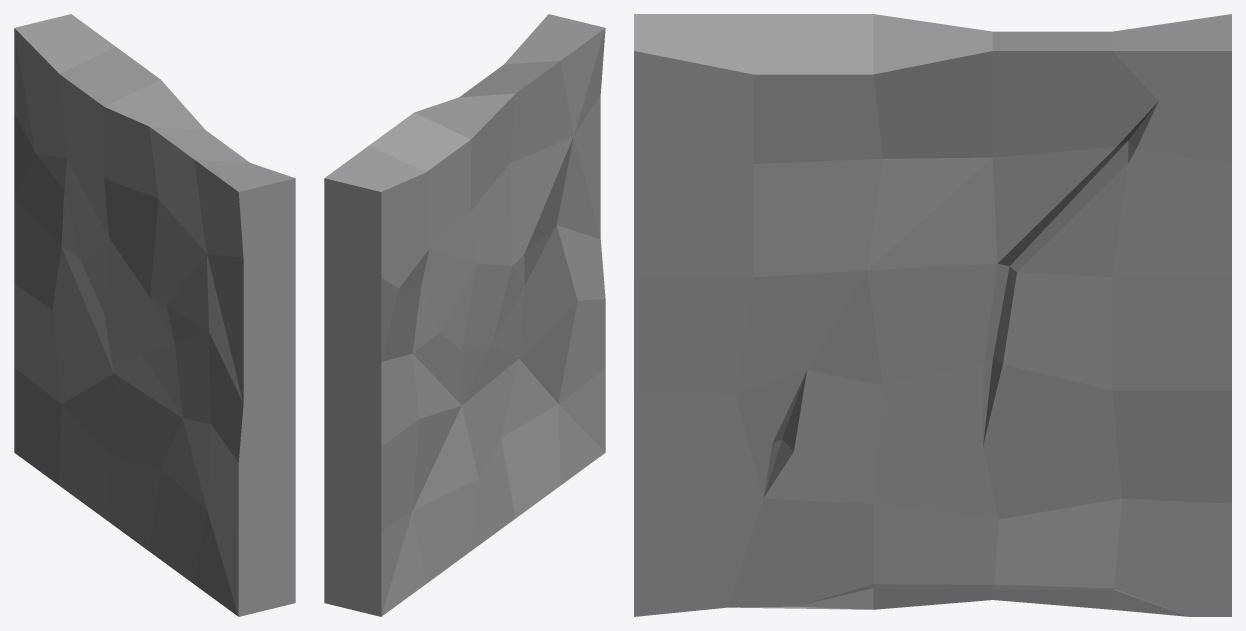
File: Fixed Mesh 17.fbx
3 renders of one model, left to right at view 1: azimuth 30°, elevation 25°; view 2: azimuth 150°, elevation 25°; view 3: azimuth 270°, elevation 25°, orthographic. The views are drawn at different scales.
Parts seen in each view (by area): view 1: Cube.071; view 2: Cube.071; view 3: Cube.071.
Part boxes in pixels (x1,y1,x2,y2): Cube.071: (14,14,295,616); Cube.071: (324,14,605,616); Cube.071: (634,14,1231,616).
Size of the model in its own units: 60 by 428 by 410.
